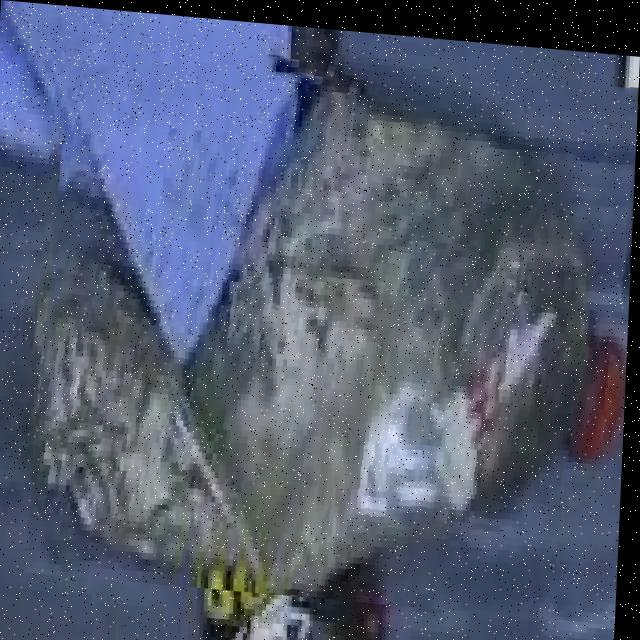plasticbottle: (27, 33, 639, 613)
